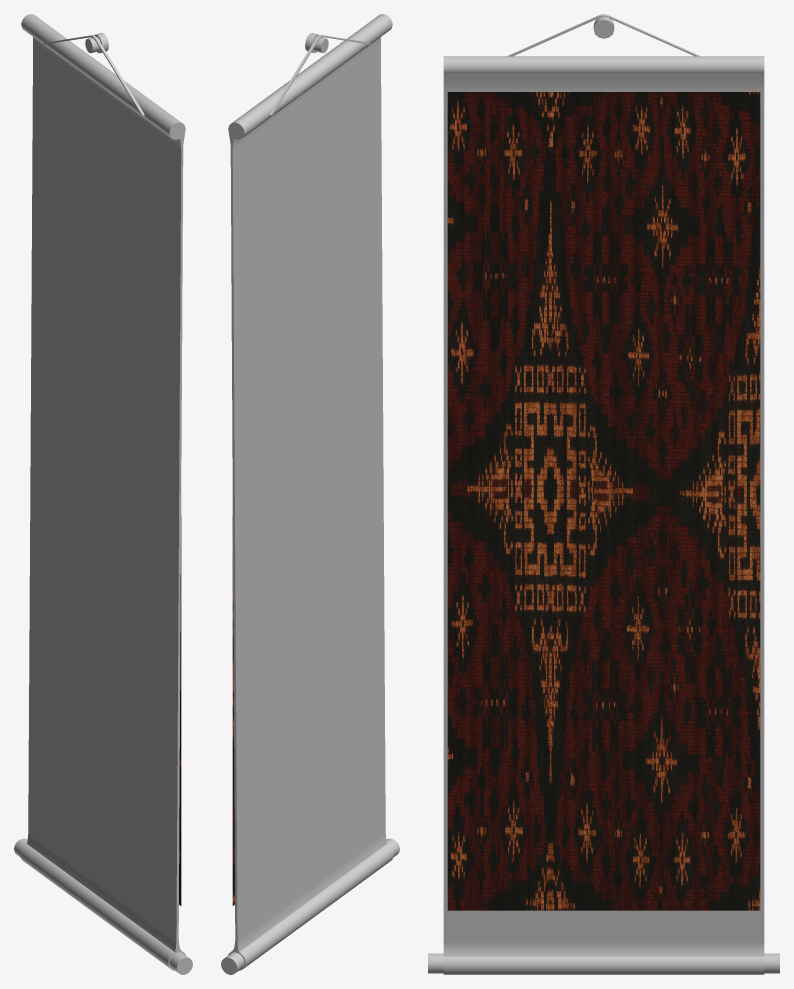
File: GAMBAR.fbx
The picture shows the model from 3 angles, left to right: view 1: azimuth 30°, elevation 25°; view 2: azimuth 150°, elevation 25°; view 3: azimuth 270°, elevation 25°; orthographic projection. The views are drawn at different scales.
Parts seen in each view (by area): view 1: scroll, Plane; view 2: scroll, Plane; view 3: Plane, scroll.
Boxes of the visible parts, x1=… form: scroll: x1=14, y1=14, x2=192, y2=974; Plane: x1=179, y1=516, x2=181, y2=905; scroll: x1=221, y1=14, x2=399, y2=974; Plane: x1=232, y1=516, x2=234, y2=905; Plane: x1=447, y1=92, x2=760, y2=910; scroll: x1=428, y1=14, x2=779, y2=974.
Size of the model in its own units: 0.9952 by 35.45 by 11.85.
